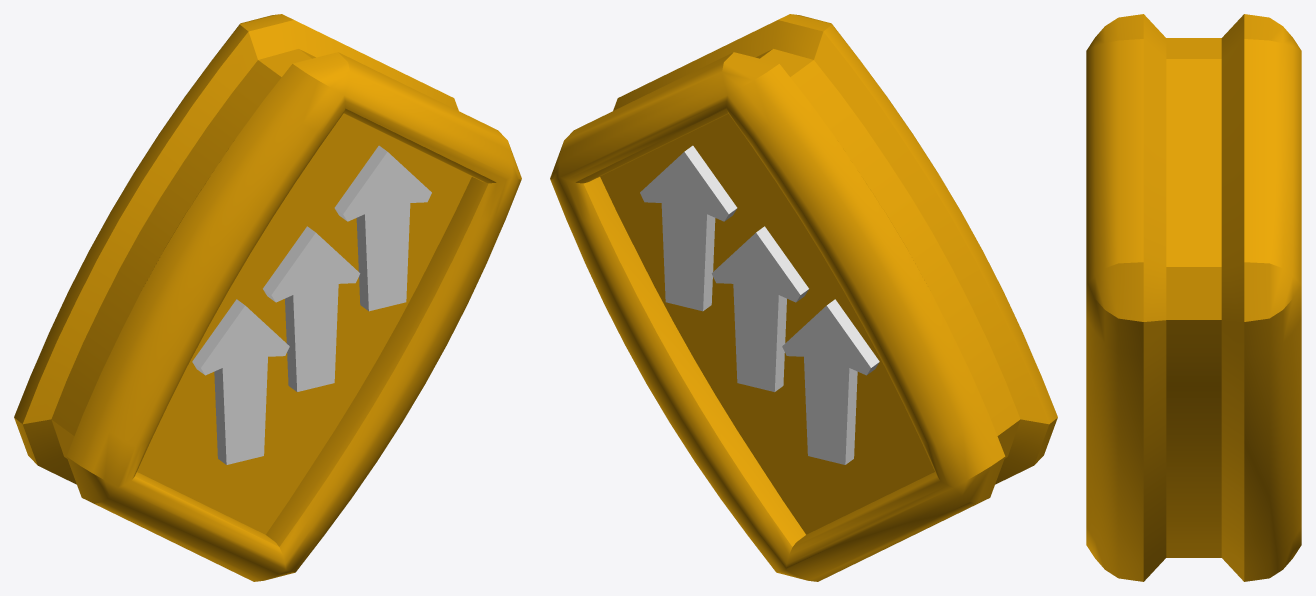
The model's file is Soap.fbx.
3 views of the same model, side by side, from view 1: azimuth 30°, elevation 25°; view 2: azimuth 150°, elevation 25°; view 3: azimuth 270°, elevation 25° (orthographic). The views are drawn at different scales.
Parts seen in each view (by area): view 1: Cube; view 2: Cube; view 3: Cube.
Part boxes in pixels (x1,y1,x2,y2): Cube: [14, 14, 521, 581]; Cube: [550, 14, 1057, 581]; Cube: [1086, 14, 1301, 581].
Bounding box in the file's own units: 107 × 115 × 39.3.
